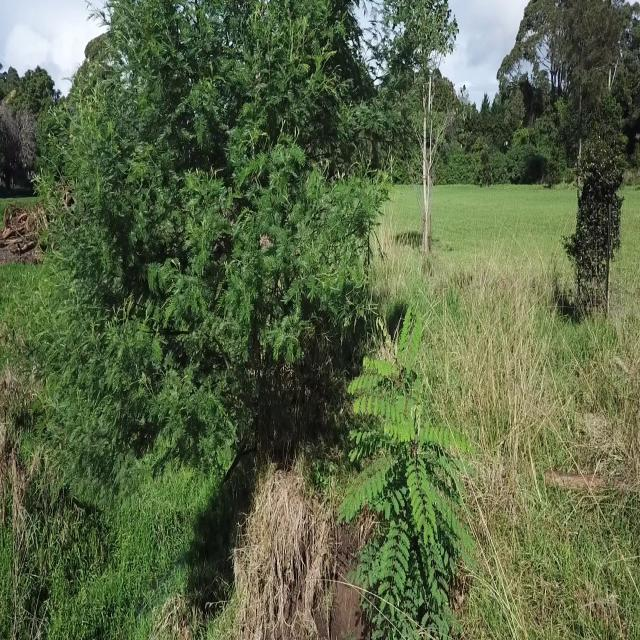Mysore-Thorn-Weed: (334, 296, 475, 640)
